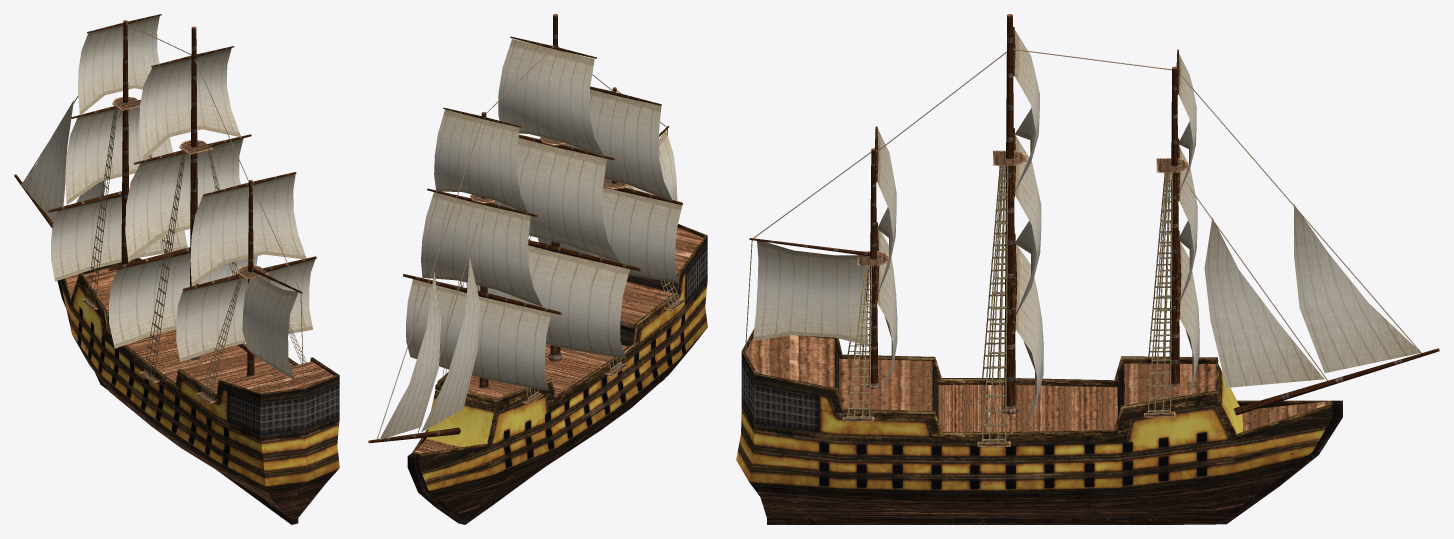
Rendered from Ship of the Line.FBX.
The picture shows the model from 3 angles, left to right: view 1: azimuth 30°, elevation 25°; view 2: azimuth 150°, elevation 25°; view 3: azimuth 270°, elevation 25°; orthographic projection. The views are drawn at different scales.
Visible parts, largest first — view 1: Ship of the Line; view 2: Ship of the Line; view 3: Ship of the Line.
Part boxes in pixels (x1,y1,x2,y2): Ship of the Line: (14, 14, 339, 524); Ship of the Line: (368, 14, 707, 524); Ship of the Line: (736, 14, 1439, 524).
Size of the model in its own units: 2 by 6.04 by 4.81.
1 material, 1 textured.
